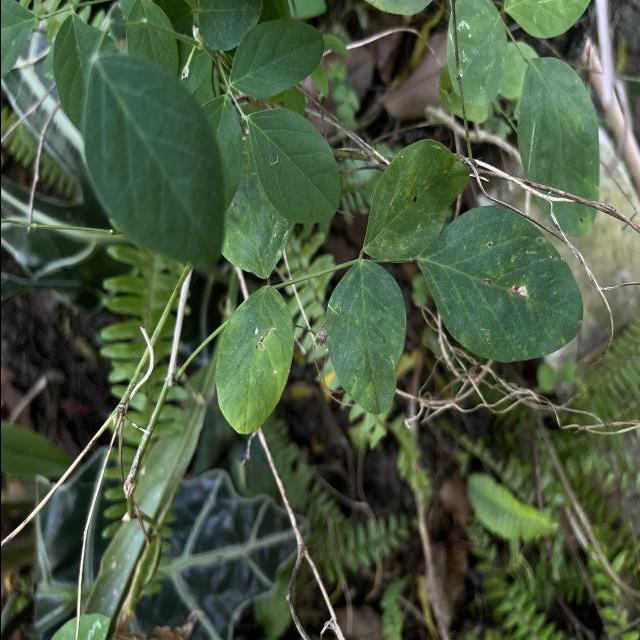Clitoria ternatea: (416, 203, 584, 364), (360, 137, 470, 265), (324, 258, 406, 416), (214, 284, 294, 436), (244, 107, 340, 225), (228, 17, 324, 100)
